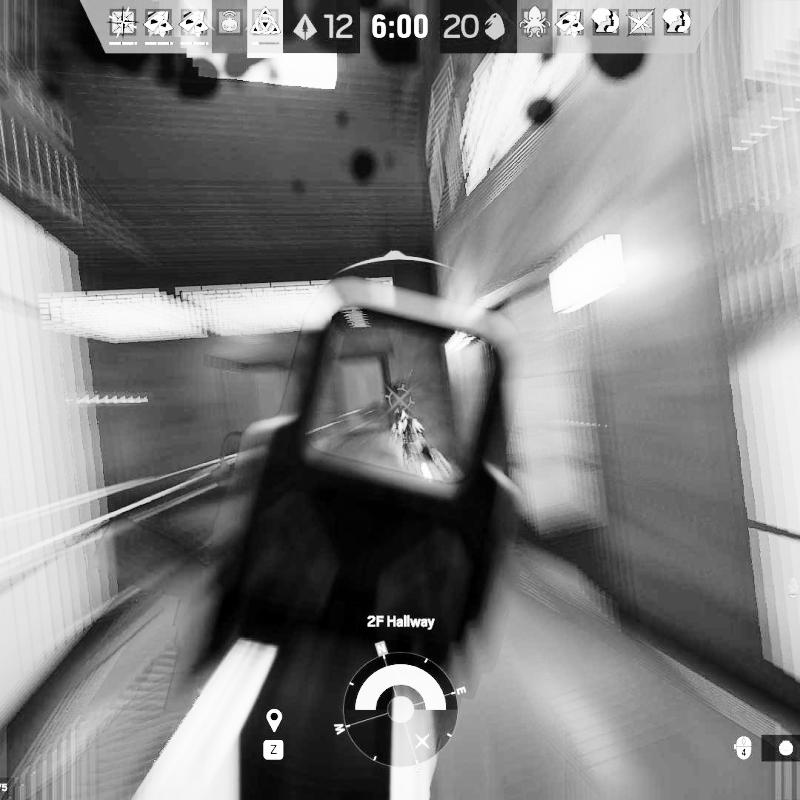Character: (387, 408, 457, 485)
Head: (394, 409, 408, 425)
